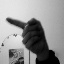g: (4, 15, 50, 57)
